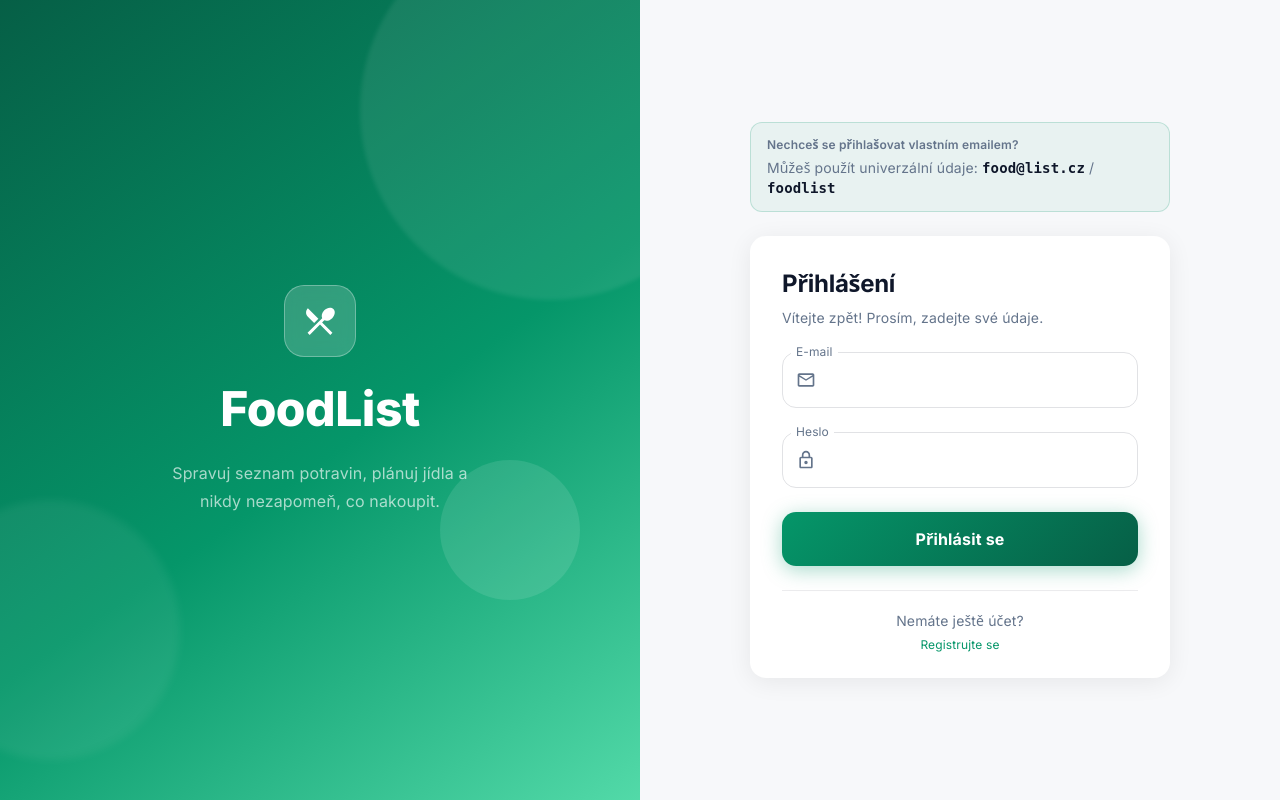
Test: AuthForm – Přihlášení › should show validation errors under inputs when form is submitted empty
Note: Najdeme tlačítko podle textu, odešleme formulář bez vyplnění
Click the button "Přihlásit se" at [960, 539], box x1=782 y1=512 x2=1138 y2=566
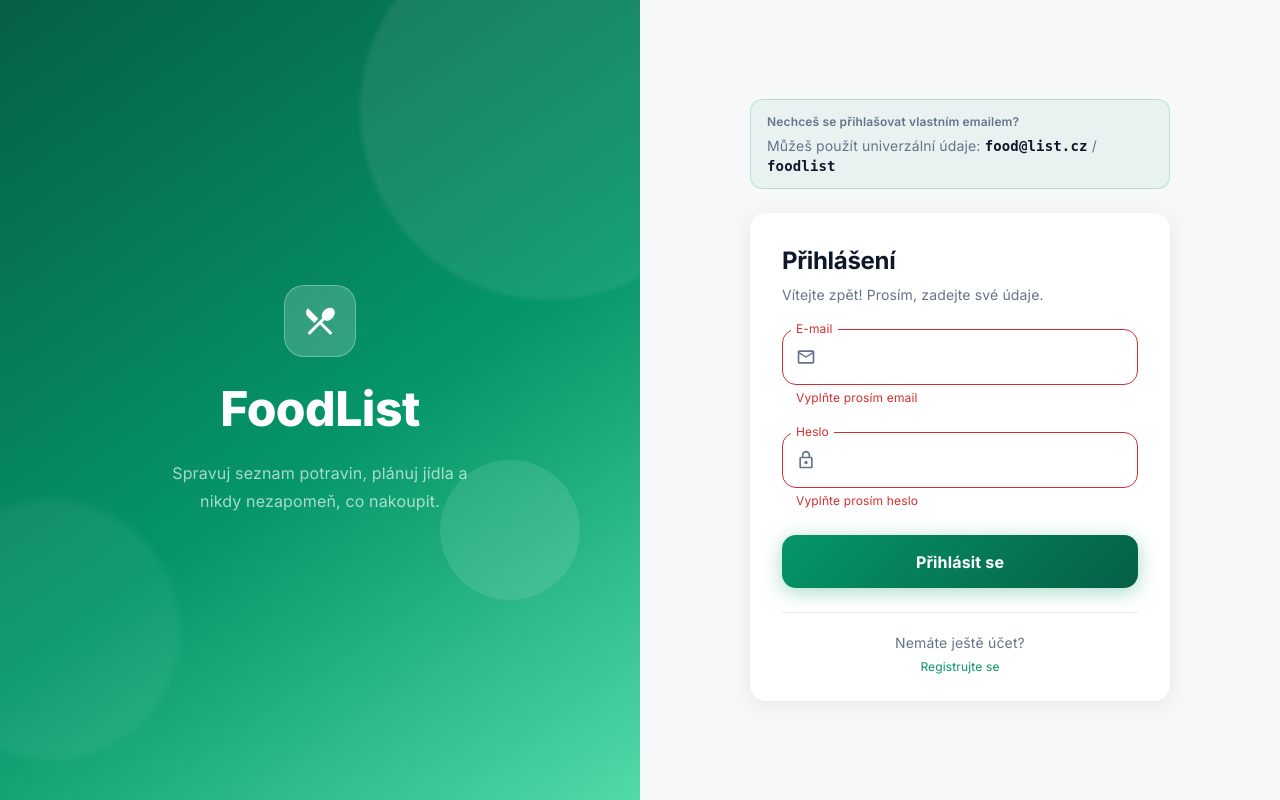
Now the text "Vyplňte prosím email" is shown, box x1=796 y1=390 x2=918 y2=405
Now the text "Vyplňte prosím heslo" is shown, box x1=796 y1=493 x2=918 y2=508
